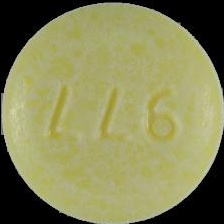51285-126: (0, 0, 224, 224)
